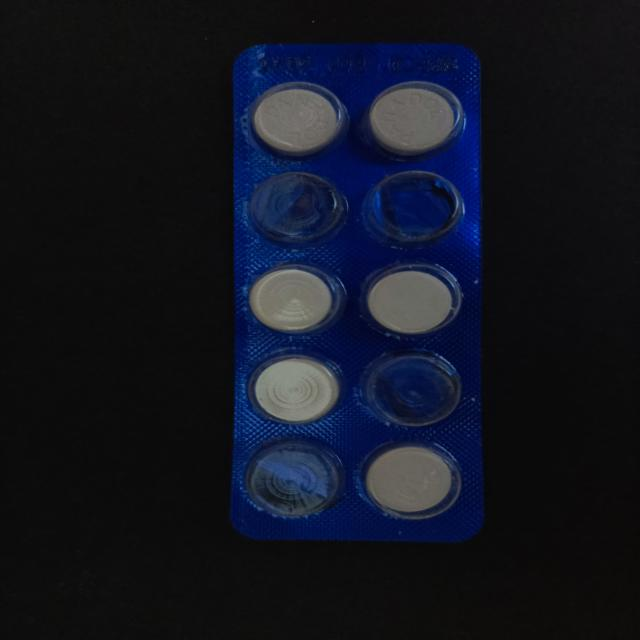defect: (354, 344, 466, 430), (242, 436, 349, 518), (362, 168, 464, 252), (245, 172, 353, 250)
